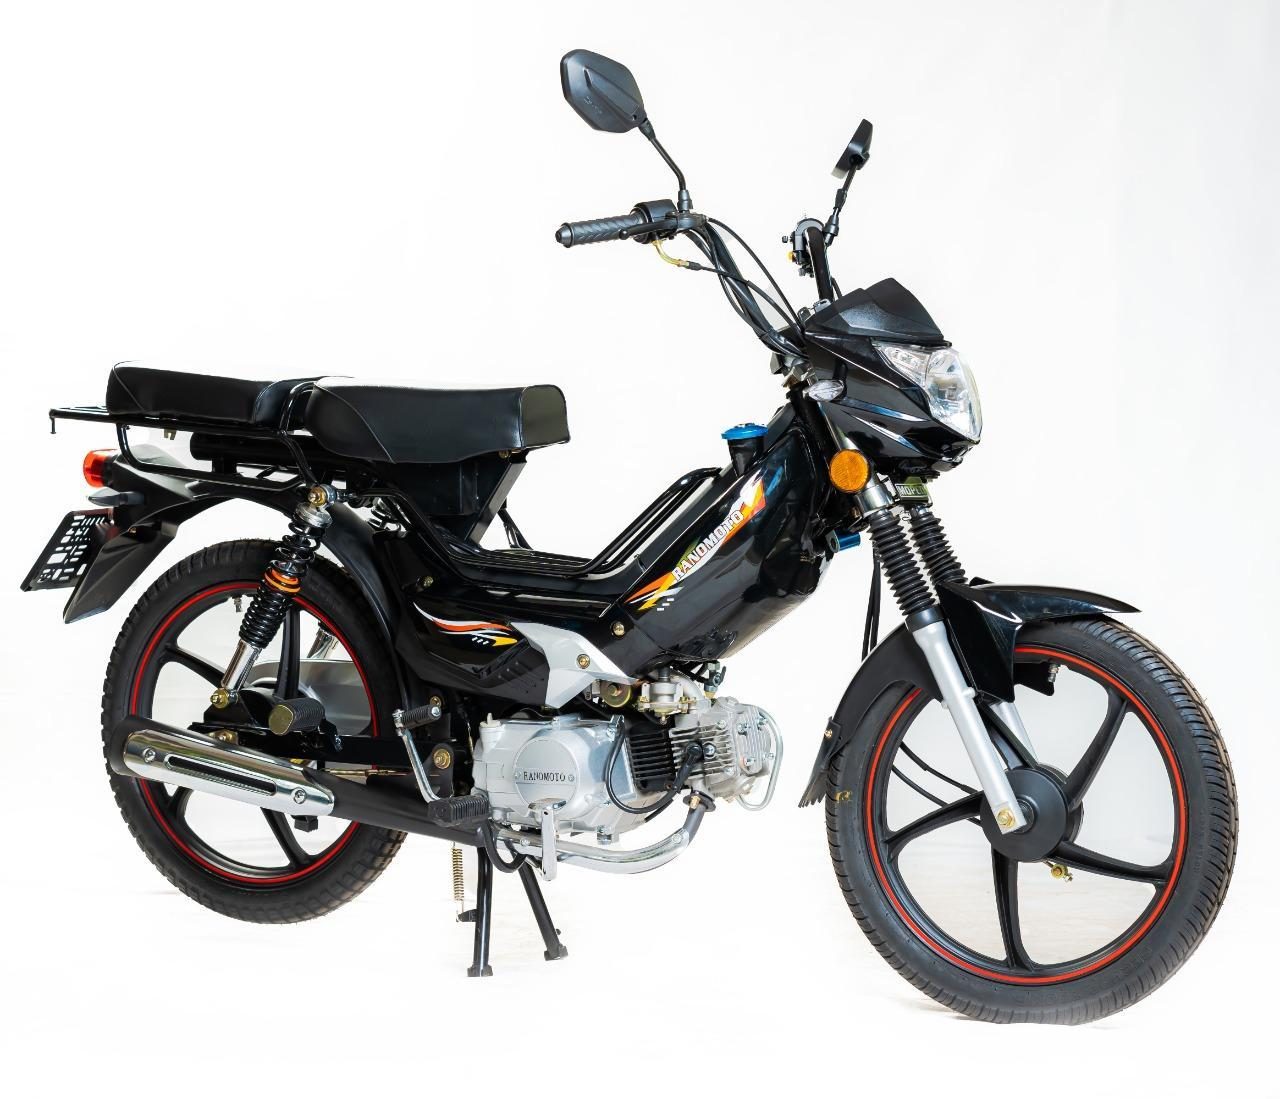motorbike: (21, 48, 1236, 1025)
